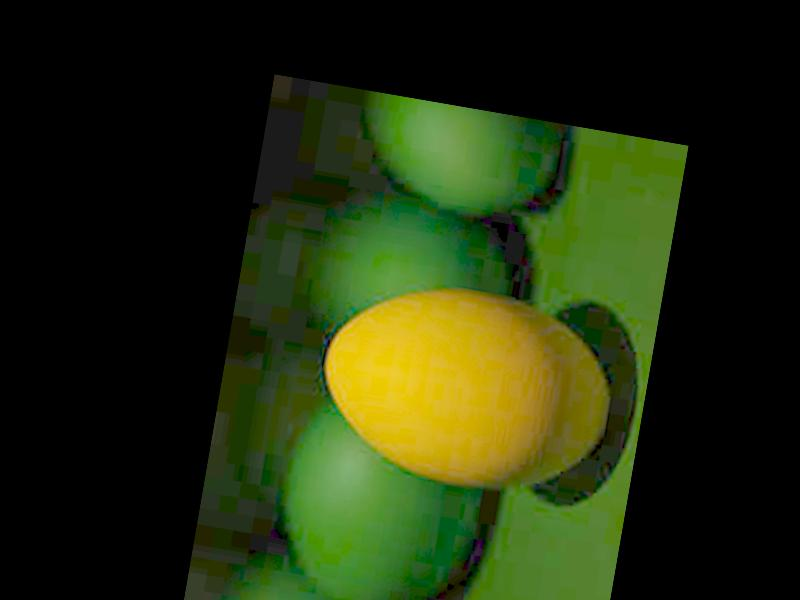Eggs: (311, 268, 624, 507)
